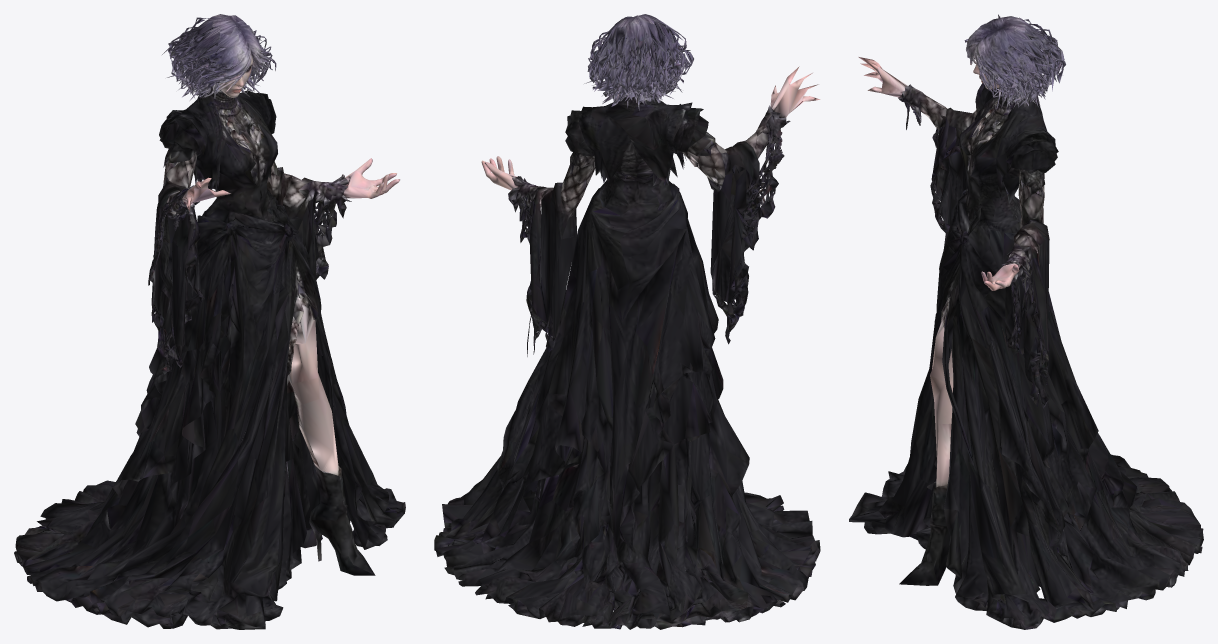
The model's file is psion-meshy.glb.
The picture shows the model from 3 angles, left to right: view 1: azimuth 30°, elevation 25°; view 2: azimuth 150°, elevation 25°; view 3: azimuth 270°, elevation 25°; orthographic projection. The views are drawn at different scales.
Parts seen in each view (by area): view 1: psion_lod0; view 2: psion_lod0; view 3: psion_lod0.
Part boxes in pixels (x1=…): psion_lod0: x1=14, y1=14, x2=405, y2=629; psion_lod0: x1=434, y1=14, x2=820, y2=629; psion_lod0: x1=849, y1=14, x2=1203, y2=629.
Size of what is drawn, in the model's own units: 0.8066 by 1.15 by 0.7072.
1 material, 1 textured.
